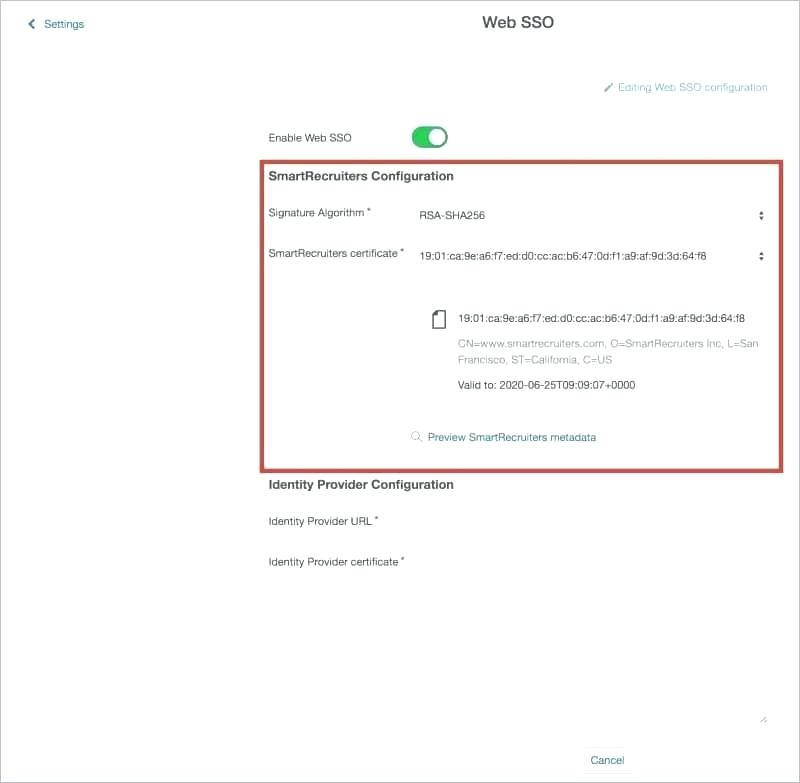checkbox: (398, 121, 458, 152)
